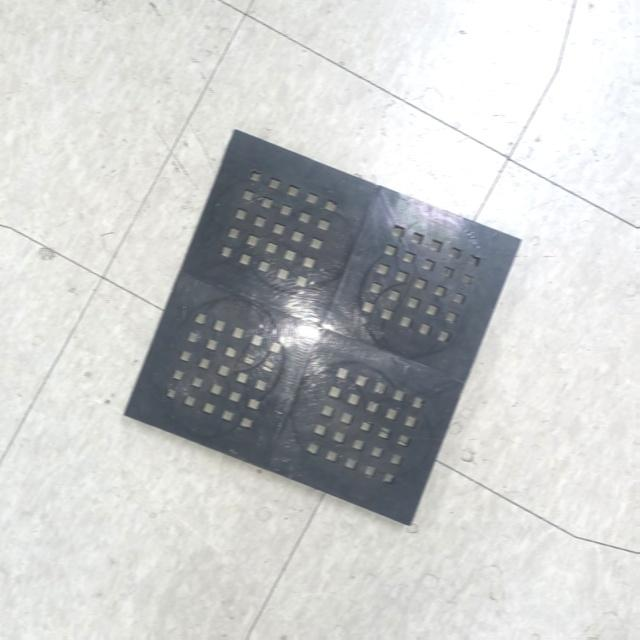pallet: (113, 118, 535, 539)
